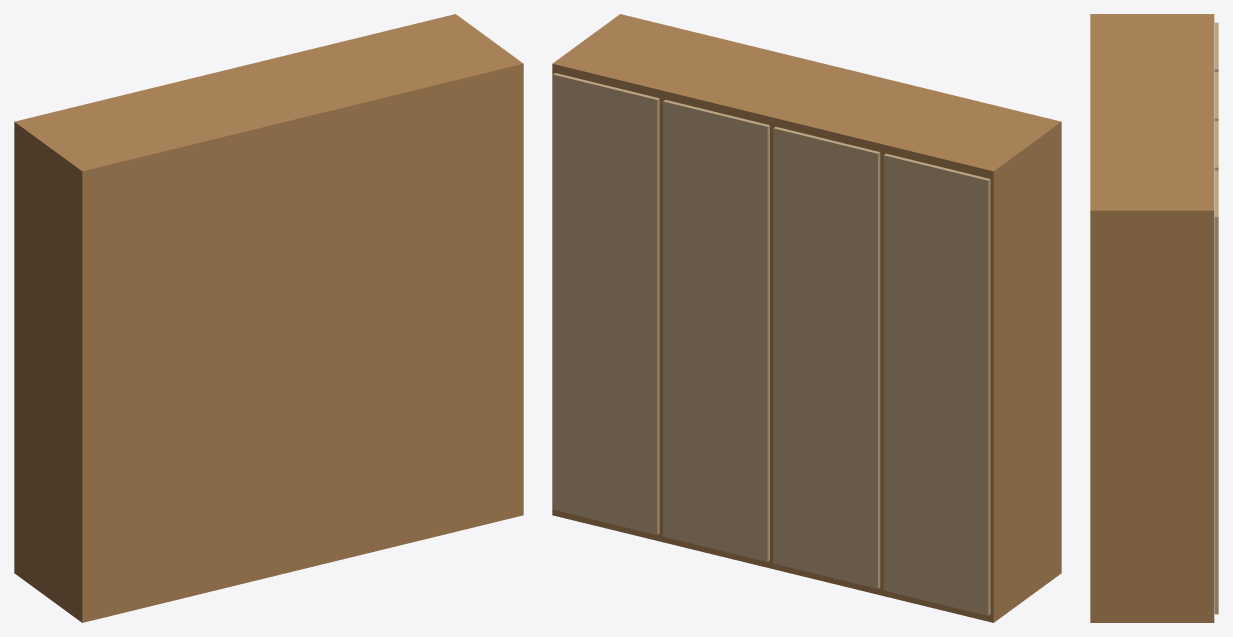
3 renders of one model, left to right at view 1: azimuth 30°, elevation 25°; view 2: azimuth 150°, elevation 25°; view 3: azimuth 270°, elevation 25°, orthographic. The views are drawn at different scales.
Parts seen in each view (by area): view 1: closet_dorm2; view 2: closet_dorm2; view 3: closet_dorm2.
Boxes of the visible parts, box(x1,y1,x2,y2) form: closet_dorm2: box(14, 14, 523, 622); closet_dorm2: box(552, 14, 1061, 622); closet_dorm2: box(1090, 14, 1218, 622).
Size of the model in its own units: 2.25 by 0.622 by 2.2.
